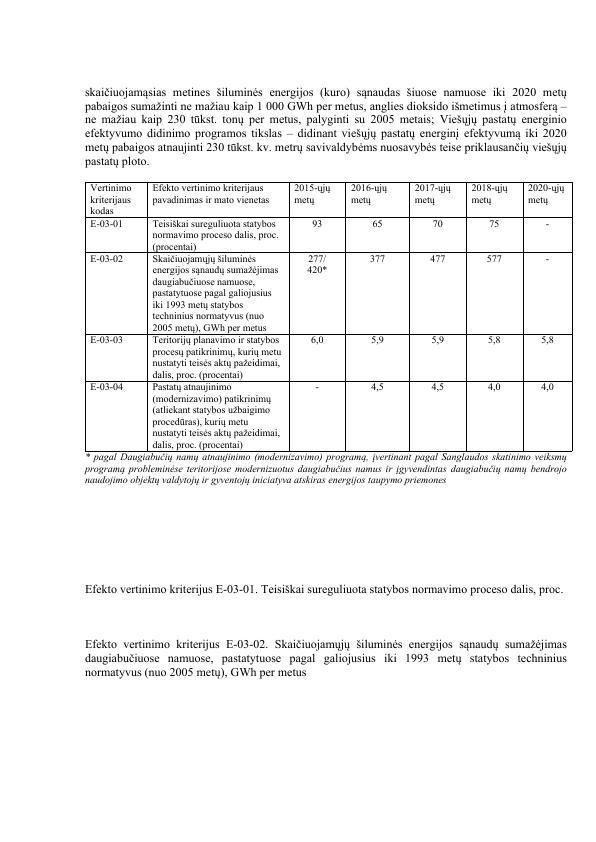table: (82, 179, 574, 452)
text: (82, 83, 570, 169), (82, 634, 573, 683), (79, 454, 570, 489), (82, 581, 568, 600)
